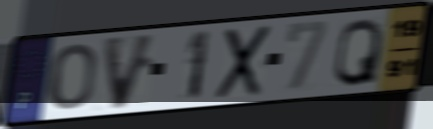1: (185, 28, 212, 104)
7: (283, 17, 333, 95)
O: (47, 41, 98, 113)
Q: (331, 15, 385, 89)
V: (101, 31, 160, 113)
X: (212, 22, 274, 102)
